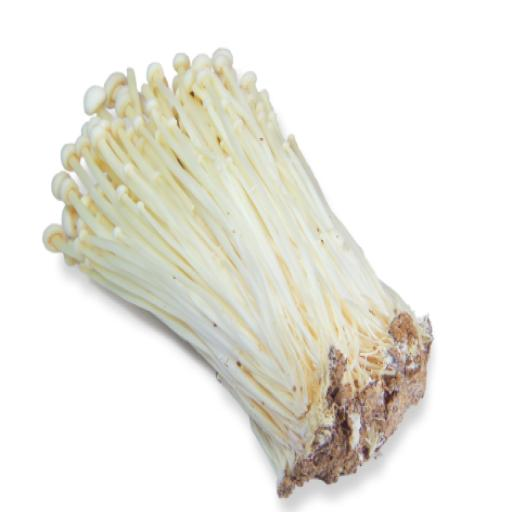Enoki Mushroom: (41, 43, 433, 509)
